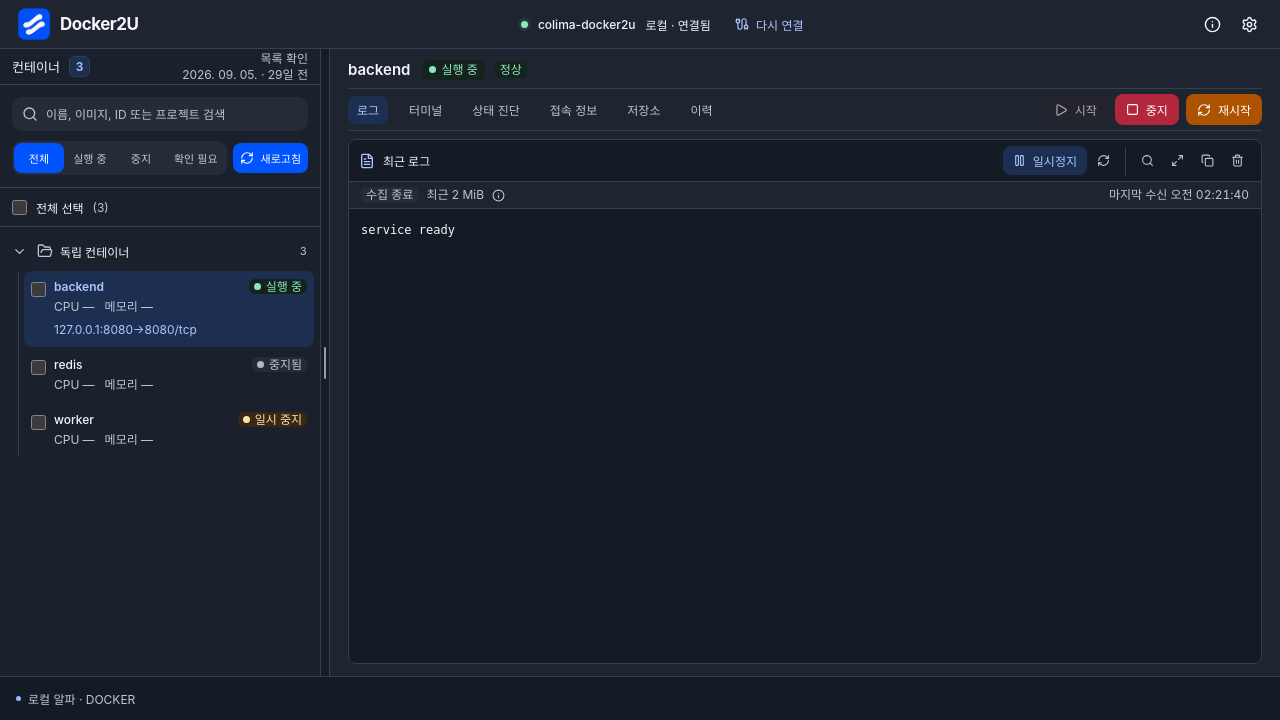
Scenario: bulk selection and recovery › counts compatible states and exposes each excluded target and reason
Expected: the list item with aria-label "backend 상세" is shown, [24,271,314,347]
Expected: the button "새로고침" is enabled, [232,143,308,173]
Click the checkbox named "보이는 컨테이너 전체 선택": (20, 207) [12,200,27,214]
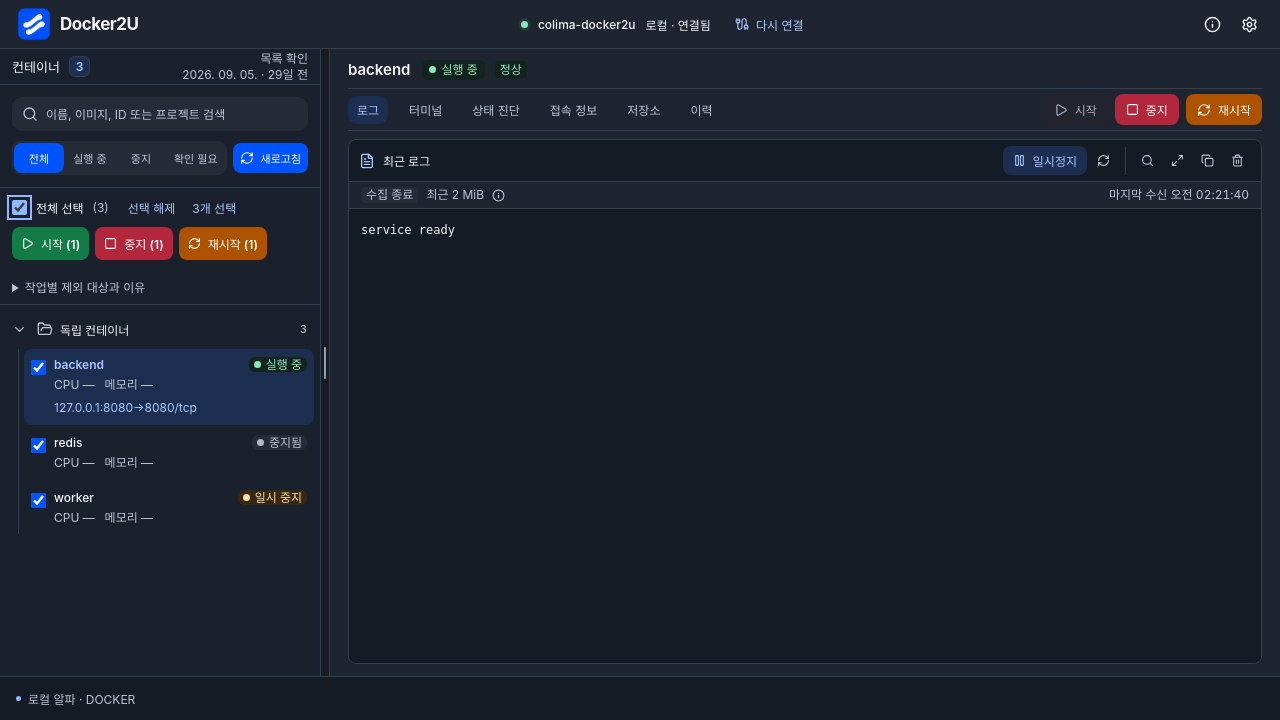
Expected: the text "3개 선택" is shown, [192,198,236,216]
Expected: the button "시작 (1)" is enabled, [12,227,89,260]
Expected: the button "중지 (1)" is enabled, [95,227,173,260]
Click the heading "작업별 제외 대상과 이유": (79, 286) [12,274,145,299]
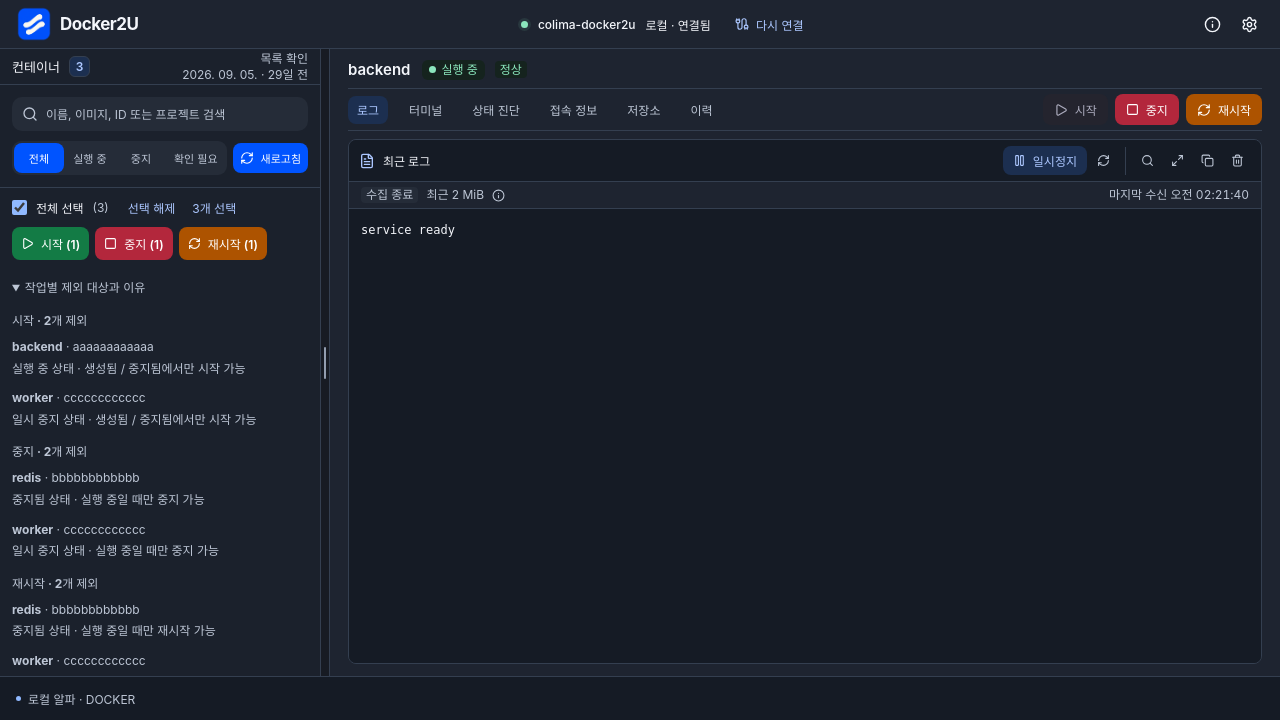
Expected: the heading "시작 · 2개 제외" is shown, [12,313,87,328]
Expected: the text "일시 중지 상태 · 생성됨 / 중지됨에서만 시작 가능" is shown, [12,412,256,427]
Expected: the text "중지됨 상태 · 실행 중일 때만 중지 가능" is shown, [12,492,205,507]
